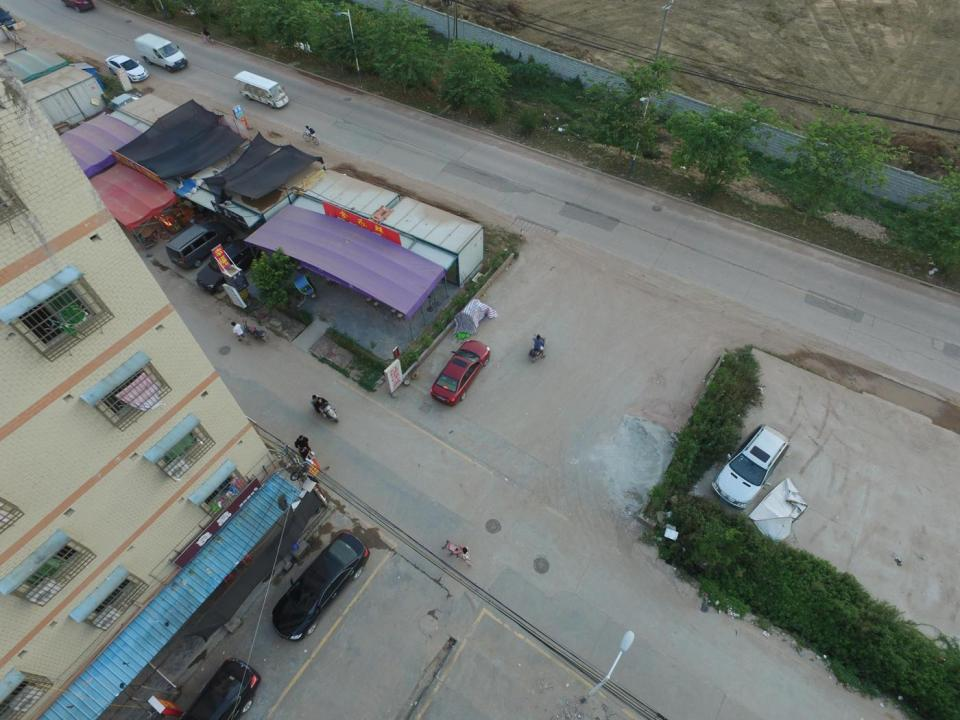bus: (231, 71, 288, 108)
car: (272, 532, 371, 642), (712, 426, 790, 509), (167, 658, 260, 720), (430, 339, 494, 407), (196, 237, 260, 294), (106, 56, 148, 82), (60, 0, 95, 13)
van: (165, 222, 235, 270), (135, 33, 188, 74)
